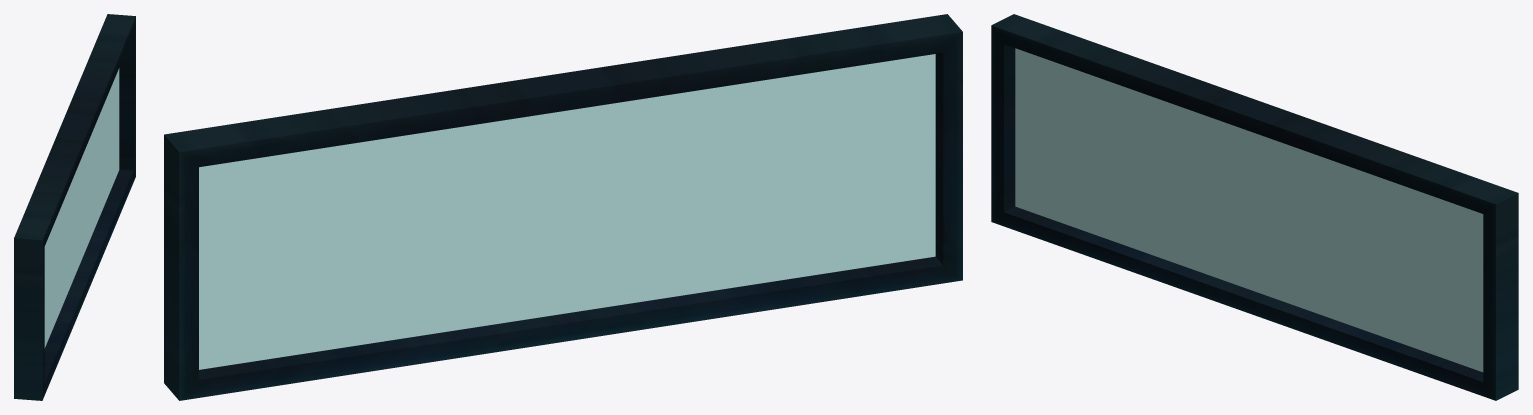
3 views of the same model, side by side, from view 1: azimuth 30°, elevation 25°; view 2: azimuth 150°, elevation 25°; view 3: azimuth 270°, elevation 25° (orthographic). The views are drawn at different scales.
Parts seen in each view (by area): view 1: contWindow002_door3_0, contWindow003_glass_0; view 2: contWindow003_glass_0, contWindow002_door3_0; view 3: contWindow003_glass_0, contWindow002_door3_0.
Part boxes in pixels (x1,y1,x2,y2): contWindow002_door3_0: (14, 14, 135, 400); contWindow003_glass_0: (44, 68, 119, 348); contWindow003_glass_0: (199, 54, 935, 369); contWindow002_door3_0: (164, 14, 962, 400); contWindow003_glass_0: (1015, 48, 1483, 372); contWindow002_door3_0: (991, 14, 1518, 400).
Bounding box in the file's own units: 2.55 × 1.23 × 2.99.
Materials: 2 (1 with a texture image).
